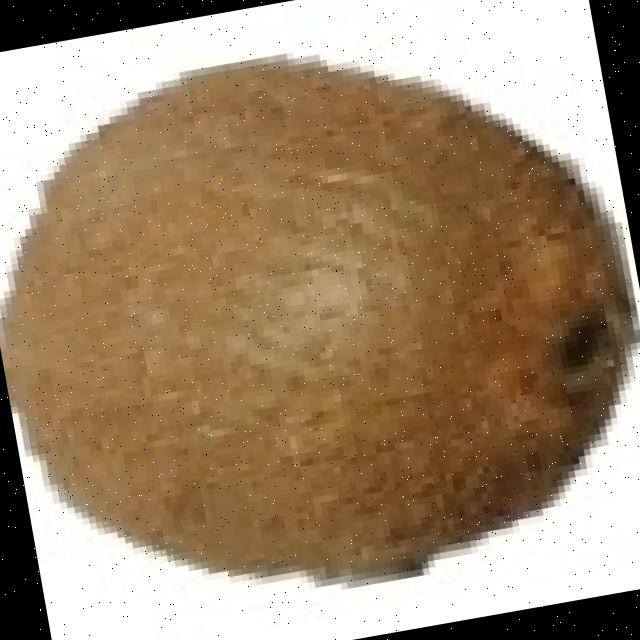kiwi: (0, 52, 620, 568)
